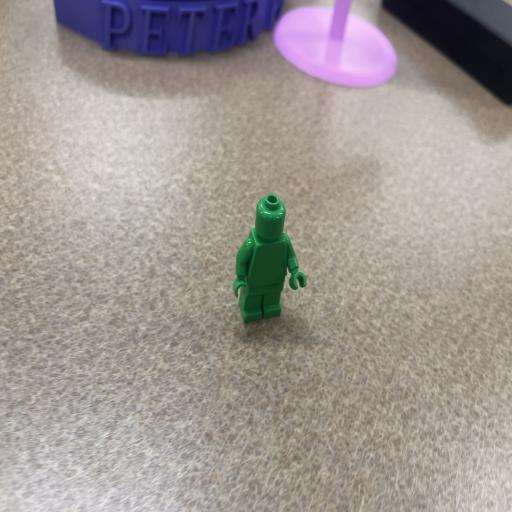Lego-Minifig: (233, 194, 306, 323), (259, 299, 278, 303)
